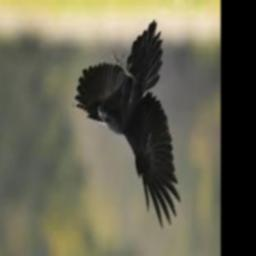Crow: (72, 20, 180, 229)
